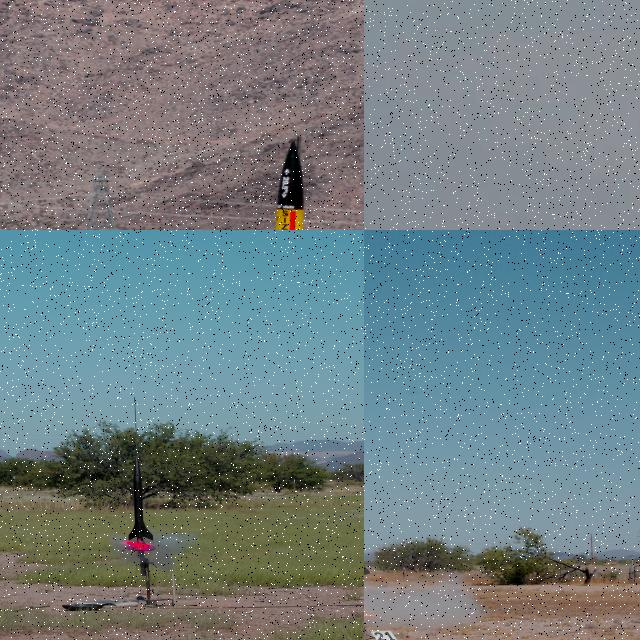Rocket: (252, 138, 316, 230), (126, 456, 154, 541), (364, 506, 370, 577)
